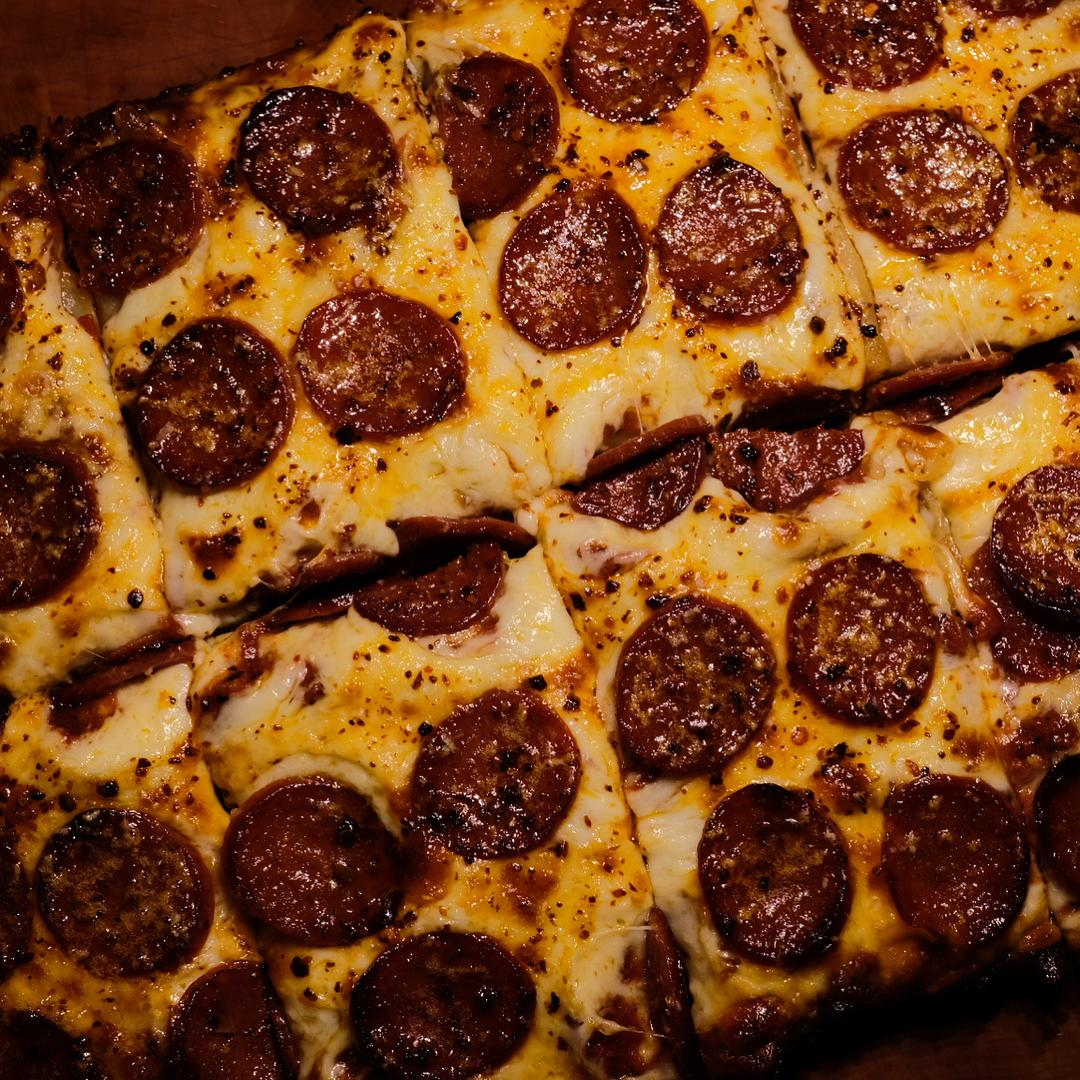Pepperoni: (14, 778, 225, 978), (668, 776, 865, 982), (316, 910, 547, 1080), (588, 586, 778, 790), (858, 750, 1037, 966), (206, 770, 417, 952), (394, 682, 591, 872), (778, 546, 959, 740), (278, 278, 481, 448), (126, 308, 300, 496), (484, 162, 657, 351), (648, 140, 810, 340), (398, 40, 579, 219), (24, 120, 200, 292), (824, 100, 1013, 258), (342, 496, 545, 642), (226, 74, 401, 237), (0, 408, 117, 628), (712, 354, 867, 516), (542, 0, 723, 127), (138, 944, 305, 1080), (846, 319, 1023, 434), (574, 402, 712, 548), (946, 536, 1080, 683), (990, 448, 1080, 639), (762, 0, 943, 87), (222, 534, 382, 624), (1004, 738, 1080, 911), (1004, 64, 1080, 235), (984, 698, 1080, 818), (64, 628, 206, 704), (0, 1000, 104, 1080), (0, 794, 33, 993), (0, 226, 32, 370), (946, 0, 1080, 32), (1042, 311, 1080, 414)
Pizza: (0, 0, 1080, 1080)
